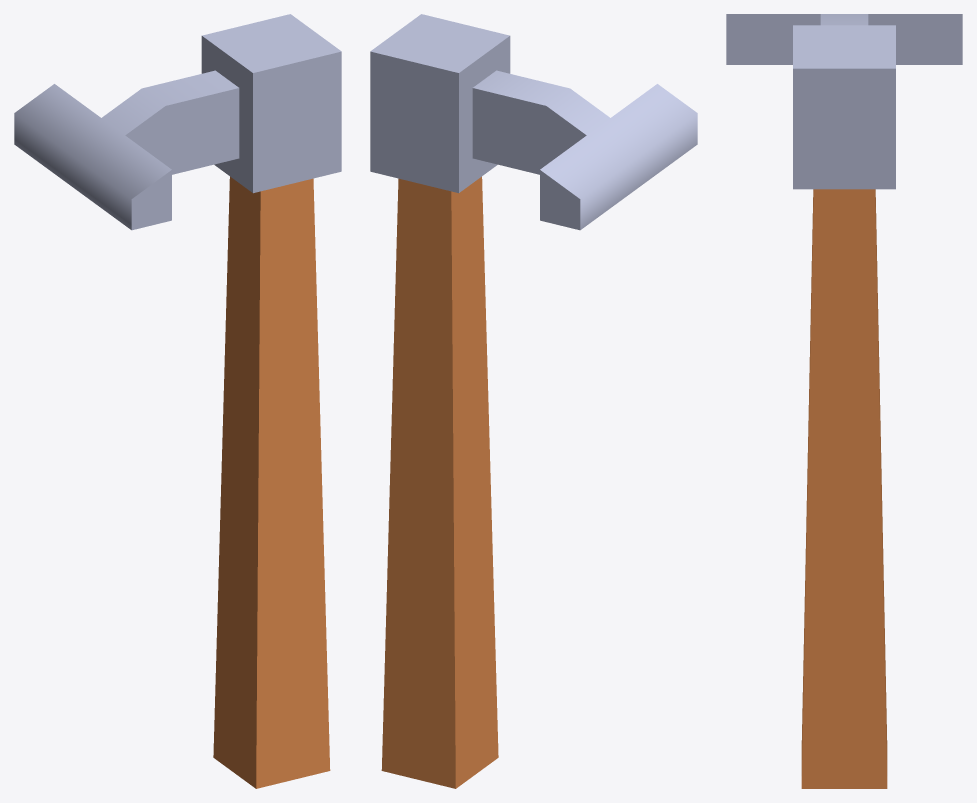
The model's file is toolHoe.obj.
3 renders of one model, left to right at view 1: azimuth 30°, elevation 25°; view 2: azimuth 150°, elevation 25°; view 3: azimuth 270°, elevation 25°, orthographic.
Parts seen in each view (by area): view 1: toolHoe; view 2: toolHoe; view 3: toolHoe.
Boxes of the visible parts, x1,y1,x2,y2 form: toolHoe: (14, 14, 341, 788); toolHoe: (370, 14, 697, 788); toolHoe: (726, 14, 962, 788).
Bounding box in the file's own units: 0.0848 × 0.24 × 0.0709.
